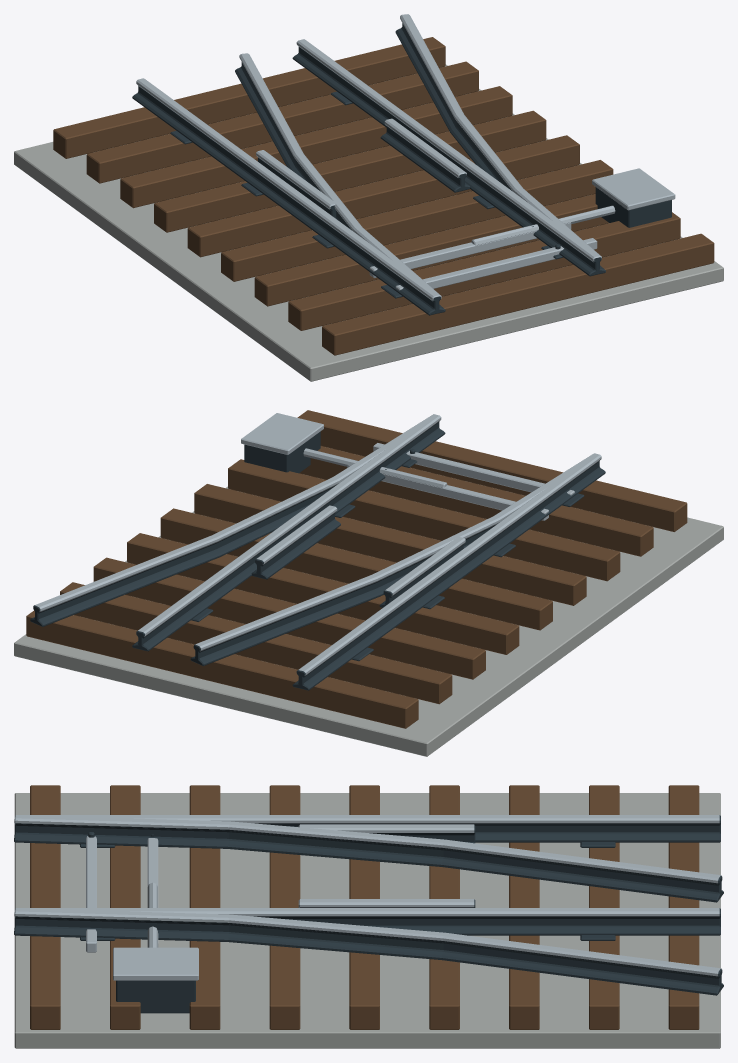
Rendered from b13_urban_rail_turnout_frog.glb.
3 views of the same model, one above another, from view 1: azimuth 30°, elevation 25°; view 2: azimuth 150°, elevation 25°; view 3: azimuth 270°, elevation 25° (orthographic). The views are drawn at different scales.
Visible parts, largest first — view 1: b13_urban_rail_turnout_frog; view 2: b13_urban_rail_turnout_frog; view 3: b13_urban_rail_turnout_frog.
Part boxes in pixels (<box>): b13_urban_rail_turnout_frog: <box>14,14,723,381</box>; b13_urban_rail_turnout_frog: <box>14,410,723,756</box>; b13_urban_rail_turnout_frog: <box>14,785,723,1048</box>.
Bounding box in the file's own units: 3.7 × 0.5025 × 4.62.
